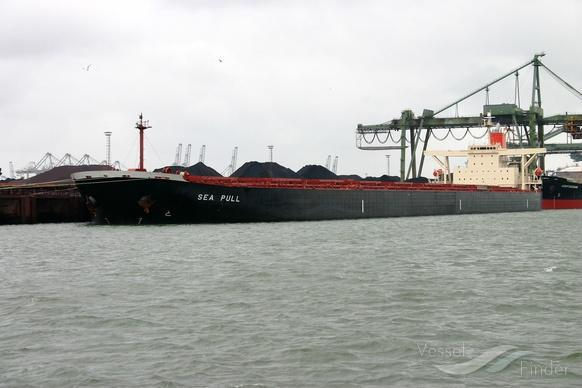OCR: (190, 190, 246, 213)
